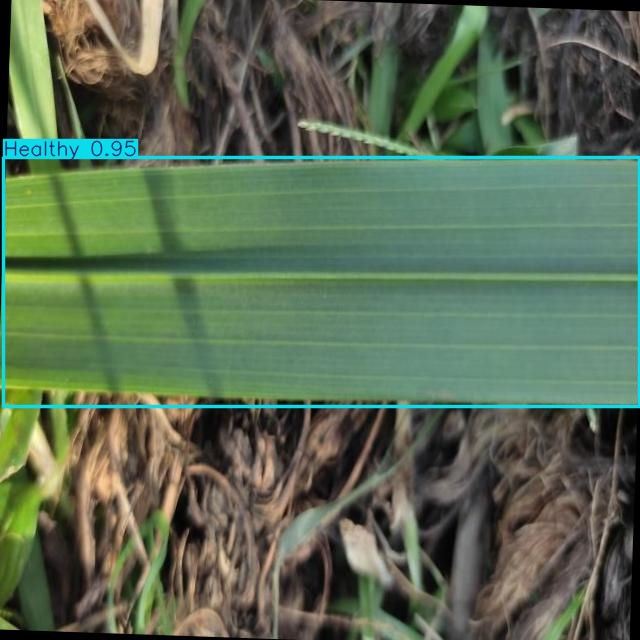Healthy: (3, 157, 640, 406)
